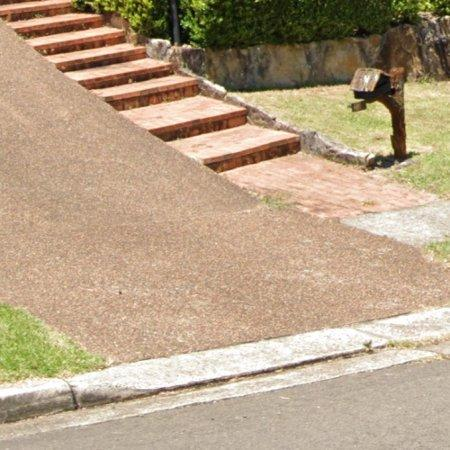stairs: (0, 0, 301, 172)
